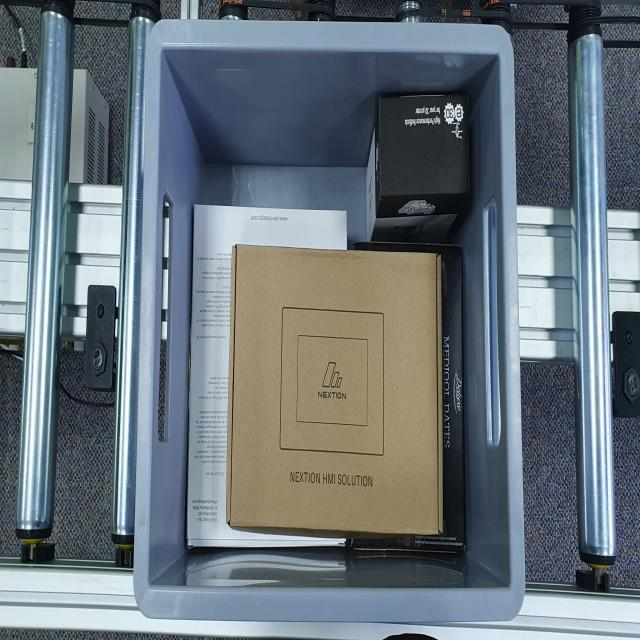box: (227, 243, 445, 540), (189, 201, 347, 555), (376, 87, 472, 209)
